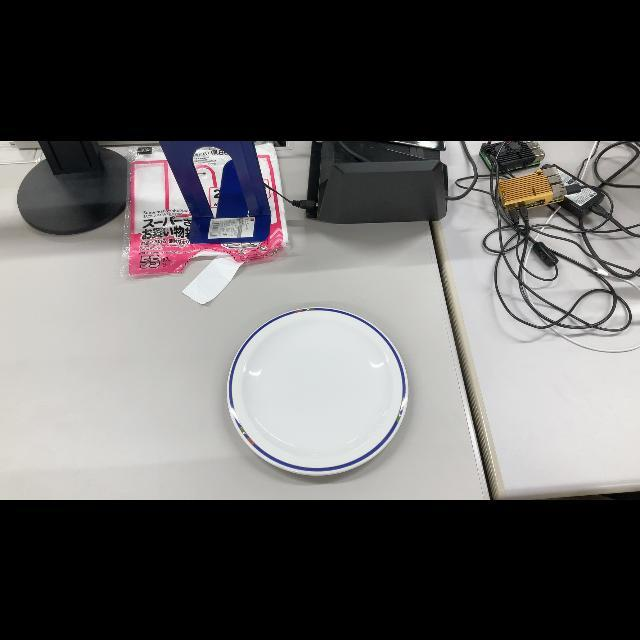plate: (225, 304, 411, 480)
